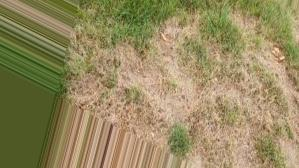patch: (162, 31, 212, 103), (223, 84, 269, 156), (105, 56, 156, 105), (243, 34, 273, 73)
